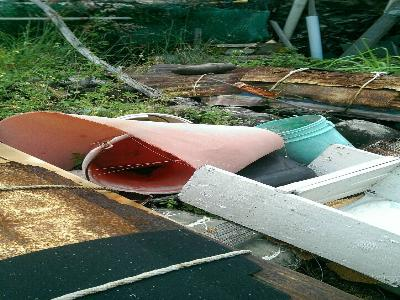bucket: (253, 113, 359, 166)
